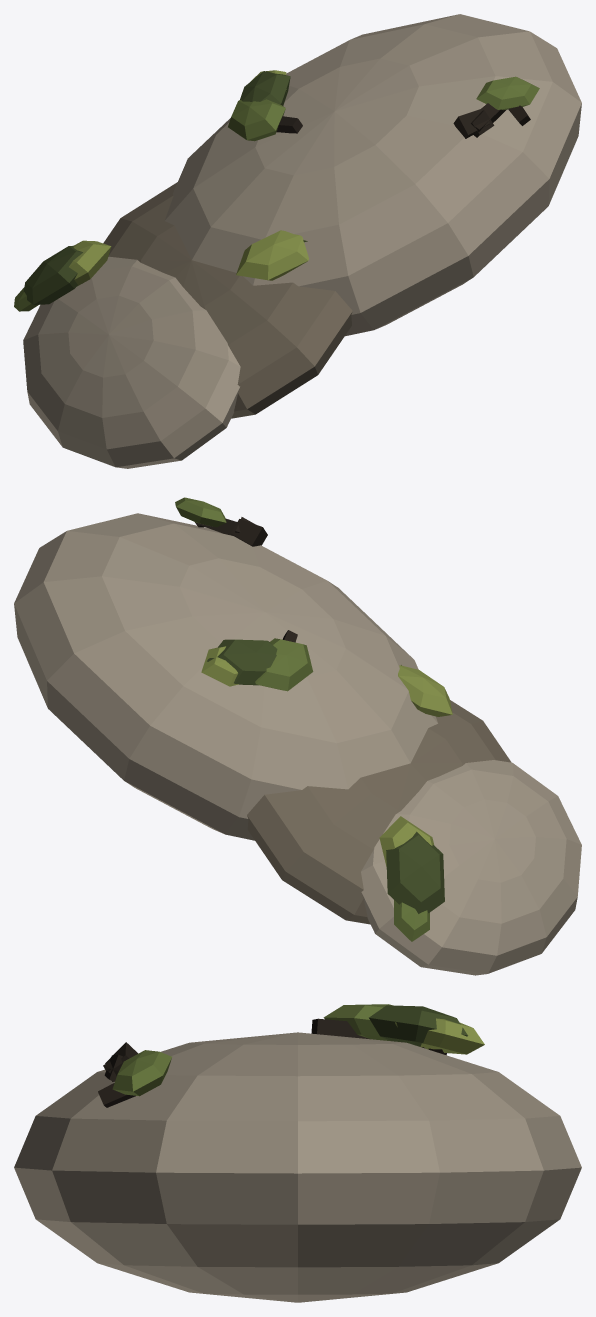
The model's file is petrified_pauldron_r.glb.
3 renders of one model, top to bottom at view 1: azimuth 30°, elevation 25°; view 2: azimuth 150°, elevation 25°; view 3: azimuth 270°, elevation 25°, orthographic. The views are drawn at different scales.
Visible parts, largest first — view 1: petrified_pauldron_r; view 2: petrified_pauldron_r; view 3: petrified_pauldron_r.
Boxes of the visible parts, box(x1,y1,x2,y2) form: petrified_pauldron_r: box(14, 14, 581, 468); petrified_pauldron_r: box(14, 497, 581, 975); petrified_pauldron_r: box(14, 1004, 581, 1302).
Size of the model in its own units: 0.6036 by 0.3666 by 0.42.
